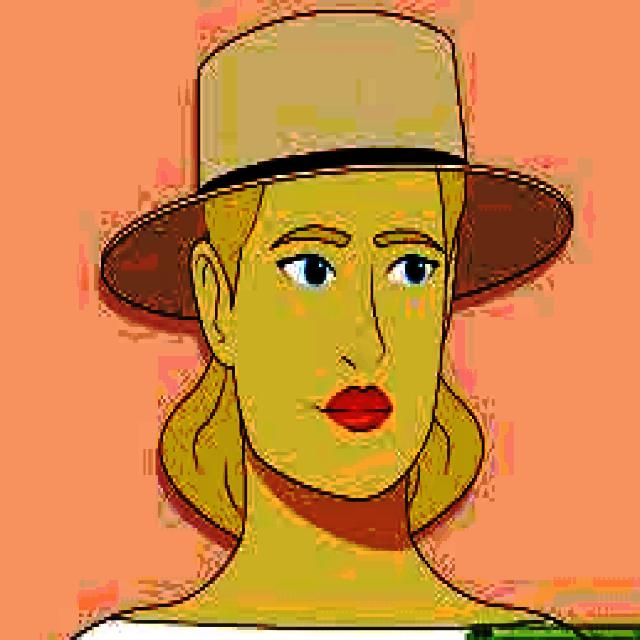TOPI: (96, 0, 581, 310)
